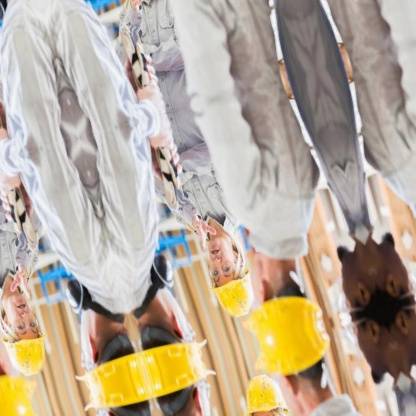yellow: (234, 283, 335, 347), (203, 263, 268, 328)
